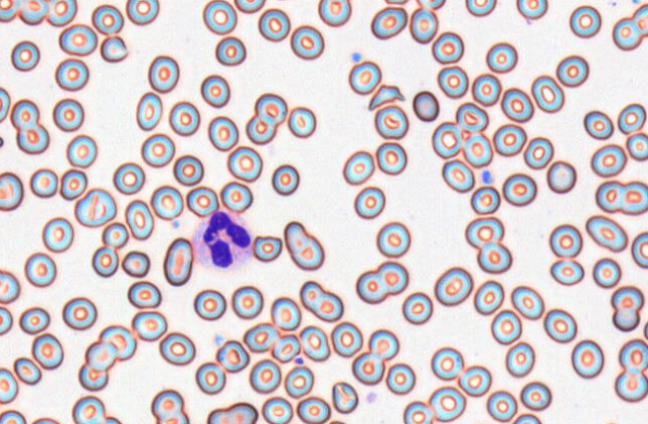GRAN: (193, 210, 254, 272)
PLT: (482, 169, 495, 183), (213, 335, 225, 347), (350, 51, 363, 62), (294, 357, 304, 365), (172, 221, 180, 228)
RBC: (355, 260, 408, 304), (283, 220, 324, 270), (299, 280, 343, 322), (74, 187, 116, 227), (585, 214, 628, 252), (610, 285, 644, 331), (434, 266, 473, 306), (162, 237, 193, 286), (150, 388, 189, 424), (98, 324, 136, 360), (428, 385, 465, 421), (226, 145, 262, 182), (530, 74, 564, 113), (464, 216, 504, 249), (58, 23, 97, 56), (571, 339, 604, 378), (158, 331, 195, 365), (376, 221, 410, 258), (370, 5, 407, 39), (147, 54, 179, 93), (124, 199, 154, 240), (202, 0, 237, 35), (590, 143, 626, 177), (290, 24, 324, 60), (62, 296, 97, 330), (54, 57, 89, 91), (140, 133, 175, 167), (374, 104, 408, 139), (543, 308, 577, 343), (500, 87, 534, 122), (248, 358, 281, 394), (330, 321, 363, 357), (31, 332, 63, 369), (215, 339, 249, 373), (510, 285, 544, 319), (502, 172, 536, 206), (150, 185, 183, 220), (549, 223, 582, 258), (348, 60, 381, 95), (490, 309, 522, 345), (41, 216, 73, 252), (168, 100, 200, 136), (24, 251, 56, 287), (431, 121, 462, 158), (206, 401, 258, 423), (614, 369, 648, 402), (254, 92, 287, 126), (351, 351, 384, 385), (430, 346, 463, 380), (112, 161, 145, 195), (492, 123, 526, 156), (257, 7, 290, 41), (476, 241, 511, 273), (342, 150, 374, 185), (299, 325, 330, 361), (131, 310, 167, 341), (473, 279, 504, 315), (207, 115, 238, 151), (441, 159, 474, 192), (556, 54, 589, 87), (612, 16, 644, 50), (457, 364, 491, 396), (185, 185, 219, 217), (569, 4, 601, 38), (52, 97, 84, 131), (231, 285, 263, 319), (353, 185, 385, 219), (375, 141, 407, 175), (462, 132, 493, 167), (270, 296, 301, 331), (504, 341, 534, 377), (219, 181, 252, 213), (193, 288, 226, 320), (431, 31, 463, 64), (84, 340, 118, 371), (66, 134, 97, 168), (135, 91, 162, 130), (243, 322, 278, 352), (409, 7, 438, 43), (485, 41, 517, 73), (455, 101, 488, 132), (486, 389, 517, 422), (91, 4, 124, 35), (401, 291, 432, 324), (437, 65, 468, 98), (195, 361, 225, 395), (546, 159, 576, 193), (471, 72, 501, 106), (200, 74, 230, 108), (71, 395, 106, 424), (368, 328, 399, 360), (519, 380, 551, 411), (16, 124, 49, 154), (618, 338, 648, 371), (385, 362, 415, 395), (523, 136, 553, 169), (549, 258, 584, 286), (215, 35, 246, 66), (173, 154, 203, 186), (284, 365, 313, 398), (296, 395, 330, 423), (127, 280, 161, 308), (245, 114, 276, 144), (10, 40, 40, 71), (10, 98, 39, 130), (617, 102, 646, 134), (287, 106, 316, 138), (0, 171, 23, 211), (621, 181, 648, 215), (270, 333, 300, 363), (583, 110, 613, 140), (592, 257, 621, 288), (29, 167, 58, 198), (91, 245, 119, 277), (59, 168, 87, 200), (271, 163, 299, 195), (317, 0, 351, 26), (470, 185, 500, 214), (251, 234, 282, 262), (19, 306, 50, 334), (331, 381, 358, 413), (261, 396, 293, 423), (125, 0, 159, 25), (78, 363, 108, 391), (412, 90, 439, 121), (45, 0, 77, 26), (13, 356, 41, 385), (101, 221, 129, 249), (100, 34, 128, 62), (121, 250, 150, 277), (18, 0, 48, 25), (0, 268, 20, 304), (402, 400, 433, 423), (625, 131, 648, 161), (0, 366, 18, 404), (631, 231, 648, 268), (516, 0, 548, 19), (632, 2, 648, 34), (465, 0, 496, 16), (0, 0, 20, 22), (233, 0, 265, 13), (0, 409, 27, 424), (0, 305, 13, 336), (511, 412, 542, 424), (0, 86, 10, 123), (415, 0, 446, 10), (29, 416, 63, 424), (103, 416, 124, 424), (383, 0, 409, 5), (643, 317, 648, 341), (326, 419, 349, 424), (594, 421, 626, 424), (0, 131, 4, 152), (268, 0, 300, 1)
Schistocyte: (366, 83, 406, 111)
